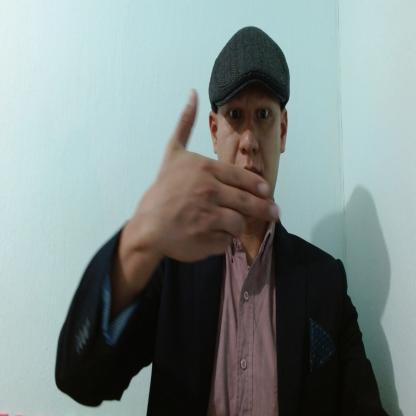H: (157, 88, 280, 264)
